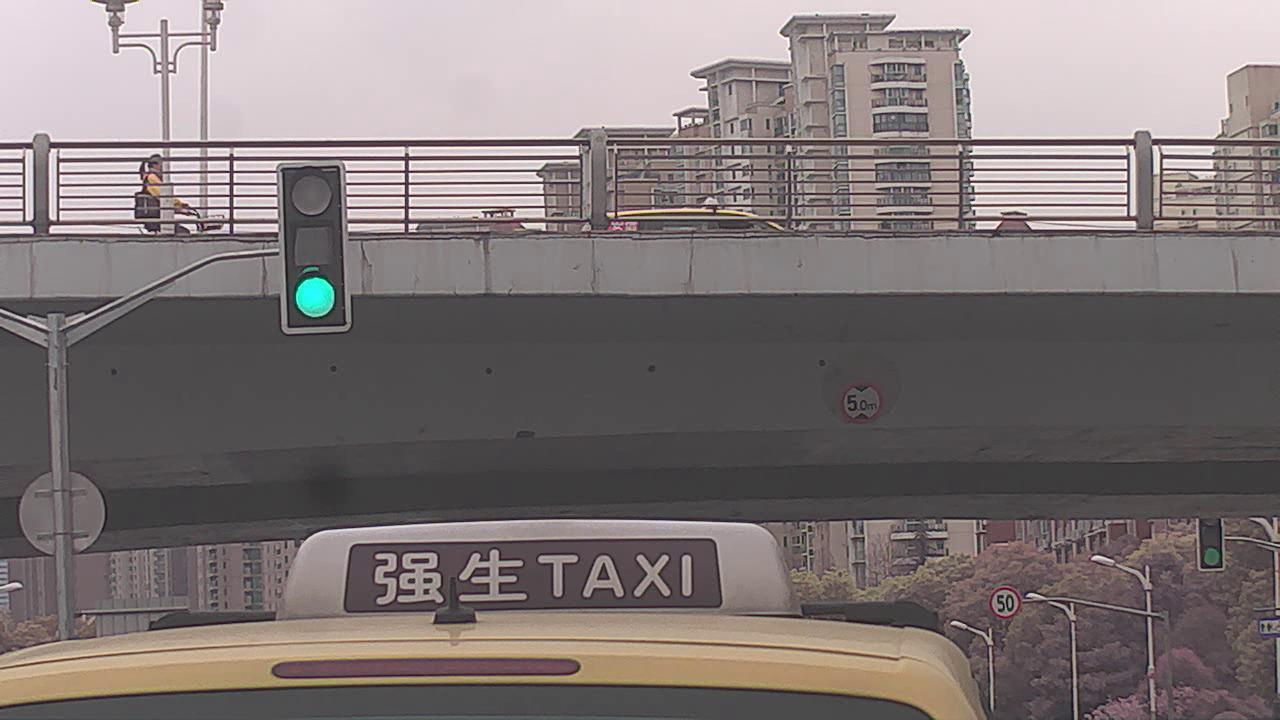traffic_light: (279, 165, 348, 331), (1198, 518, 1227, 571)
